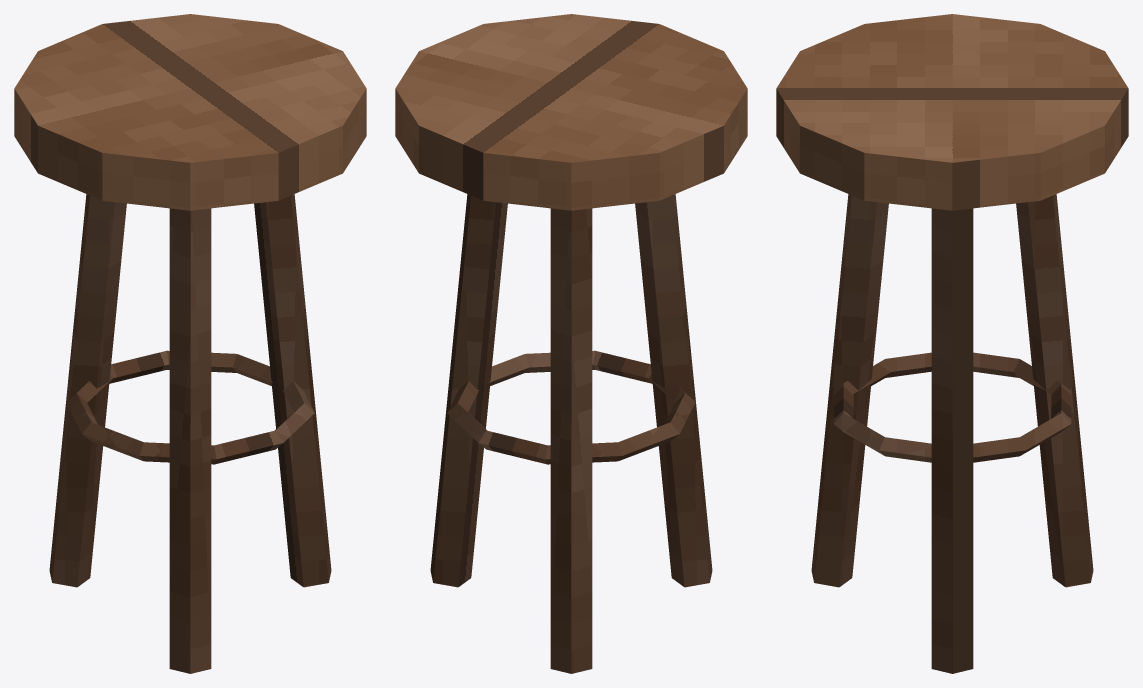
The model's file is stool.glb.
3 views of the same model, side by side, from view 1: azimuth 30°, elevation 25°; view 2: azimuth 150°, elevation 25°; view 3: azimuth 270°, elevation 25° (orthographic).
Visible parts, largest first — view 1: body; view 2: body; view 3: body.
Boxes of the visible parts, bbox=[...] form: body: bbox=[14, 14, 366, 673]; body: bbox=[395, 14, 747, 673]; body: bbox=[776, 14, 1128, 673].
Size of the model in its own units: 0.4 by 0.652 by 0.4.
2 materials, 2 textured.
